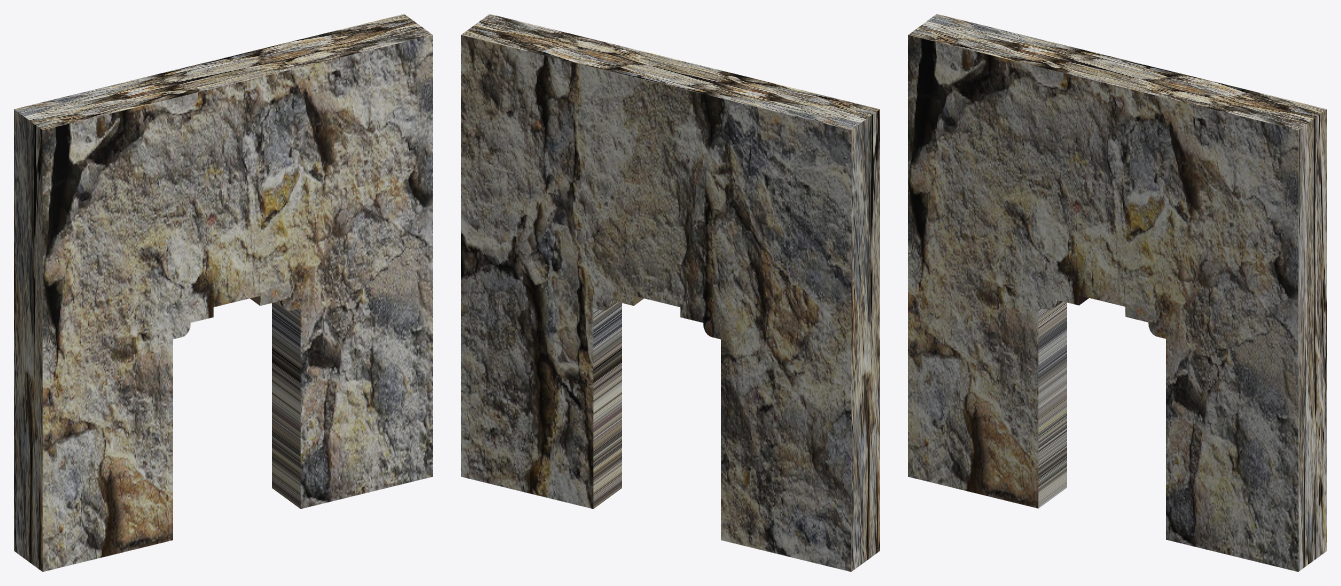
The model's file is door_s_4.fbx.
3 views of the same model, side by side, from view 1: azimuth 30°, elevation 25°; view 2: azimuth 150°, elevation 25°; view 3: azimuth 330°, elevation 25° (orthographic).
Parts seen in each view (by area): view 1: Cube.017; view 2: Cube.017; view 3: Cube.017.
Boxes of the visible parts, box(x1,y1,x2,y2) form: Cube.017: box(14, 14, 432, 571); Cube.017: box(461, 14, 879, 571); Cube.017: box(908, 14, 1326, 571).
Bounding box in the file's own units: 488 × 528 × 62.
Materials: 1 (1 with a texture image).
